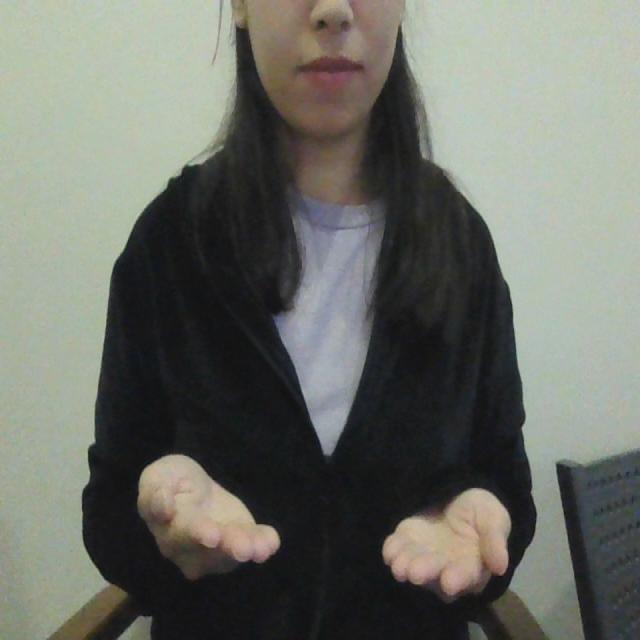Evet: (132, 448, 518, 606)
